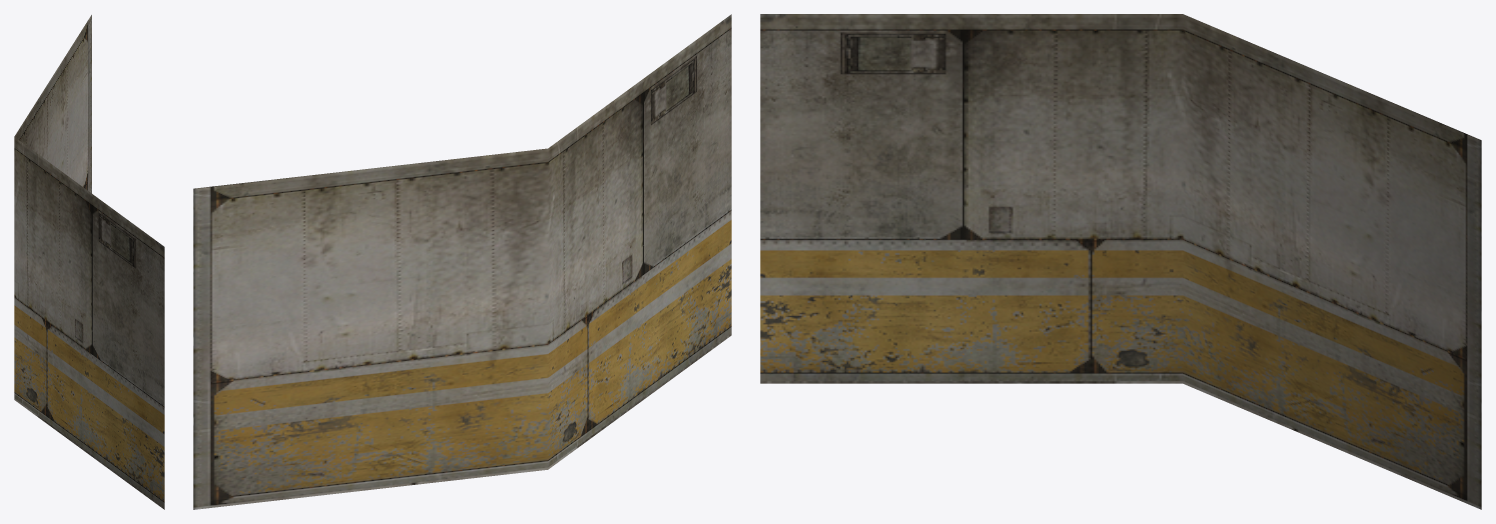
File: Wall_K_Short2mts_02.fbx
3 views of the same model, side by side, from view 1: azimuth 30°, elevation 25°; view 2: azimuth 150°, elevation 25°; view 3: azimuth 270°, elevation 25° (orthographic). The views are drawn at different scales.
Visible parts, largest first — view 1: Wall_F_Short2mts_02; view 2: Wall_F_Short2mts_02; view 3: Wall_F_Short2mts_02.
Part boxes in pixels (x1=…): Wall_F_Short2mts_02: x1=14, y1=15, x2=164, y2=509; Wall_F_Short2mts_02: x1=193, y1=14, x2=731, y2=509; Wall_F_Short2mts_02: x1=760, y1=14, x2=1481, y2=509.
Bounding box in the file's own units: 147 × 200 × 354.
